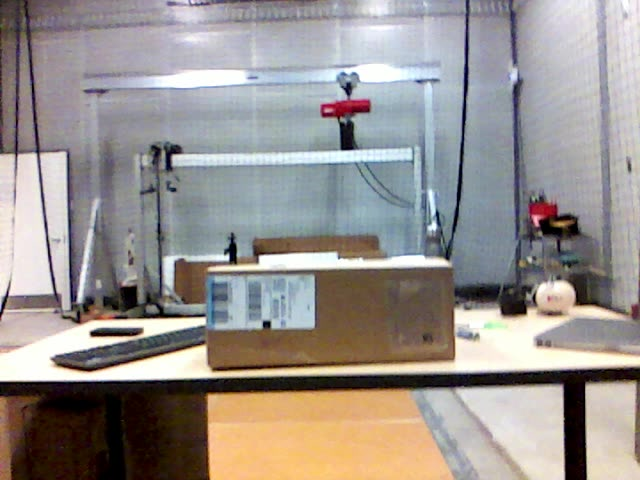box: (205, 266, 456, 363)
